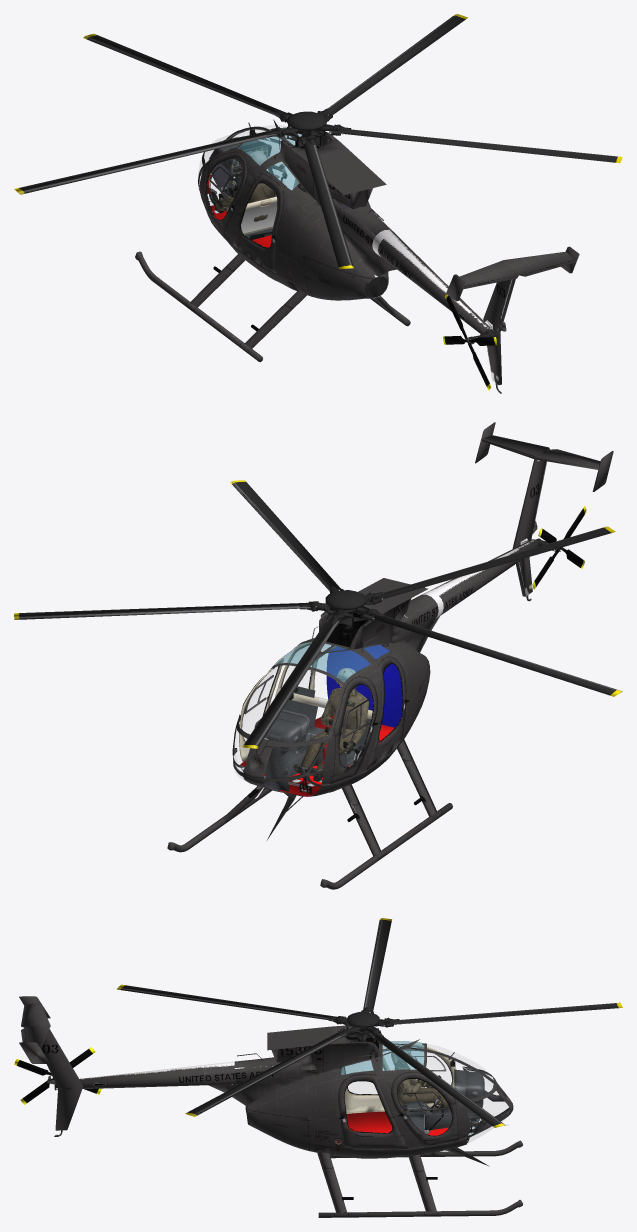
3 renders of one model, top to bottom at view 1: azimuth 30°, elevation 25°; view 2: azimuth 150°, elevation 25°; view 3: azimuth 270°, elevation 25°, orthographic. The views are drawn at different scales.
Parts seen in each view (by area): view 1: ext_fuse1.001, rotor_main, ext_fuse1, ext_fuse1_doors, ext_skids, glasss_grn, int_seats2, int_pilotR, int_console, rotor_tail, int_fuse2; view 2: rotor_main, ext_fuse1.001, ext_fuse1, ext_fuse1_doors, ext_skids, ext_fuse1.004, int_pilotR, int_console, glasss_grn, int_seats2, glass, ext_fuse1.002 (+3 smaller); view 3: ext_fuse1.001, rotor_main, ext_fuse1, ext_fuse1_doors, ext_skids, glass, int_console, ext_fuse1.002, glasss_grn, int_pilotR, ext_fuse1.003, rotor_tail (+2 smaller).
Part boxes in pixels (x1=…): ext_fuse1.001: x1=288, y1=149, x2=579, y2=393; rotor_main: x1=14, y1=14, x2=622, y2=269; ext_fuse1: x1=198, y1=119, x2=347, y2=282; ext_fuse1_doors: x1=204, y1=152, x2=299, y2=273; ext_skids: x1=135, y1=251, x2=410, y2=362; glasss_grn: x1=238, y1=128, x2=301, y2=190; int_seats2: x1=233, y1=195, x2=277, y2=239; int_pilotR: x1=209, y1=150, x2=277, y2=221; int_console: x1=206, y1=139, x2=271, y2=194; rotor_tail: x1=443, y1=294, x2=497, y2=390; int_fuse2: x1=198, y1=128, x2=285, y2=197; rotor_main: x1=14, y1=480, x2=622, y2=748; ext_fuse1.001: x1=358, y1=422, x2=613, y2=732; ext_fuse1: x1=233, y1=604, x2=412, y2=798; ext_fuse1_doors: x1=239, y1=642, x2=409, y2=783; ext_skids: x1=167, y1=739, x2=452, y2=889; ext_fuse1.004: x1=326, y1=645, x2=402, y2=727; int_pilotR: x1=293, y1=668, x2=369, y2=781; int_console: x1=254, y1=709, x2=326, y2=791; glasss_grn: x1=274, y1=638, x2=389, y2=682; int_seats2: x1=275, y1=686, x2=372, y2=767; glass: x1=234, y1=666, x2=310, y2=781; ext_fuse1.002: x1=267, y1=735, x2=406, y2=840; ext_fuse1.001: x1=19, y1=996, x2=331, y2=1152; rotor_main: x1=117, y1=918, x2=622, y2=1127; ext_fuse1: x1=324, y1=1025, x2=513, y2=1149; ext_fuse1_doors: x1=338, y1=1043, x2=458, y2=1149; ext_skids: x1=317, y1=1140, x2=522, y2=1217; glass: x1=348, y1=1044, x2=508, y2=1143; int_console: x1=424, y1=1069, x2=484, y2=1132; ext_fuse1.002: x1=325, y1=1137, x2=489, y2=1166; glasss_grn: x1=341, y1=1041, x2=424, y2=1074; int_pilotR: x1=394, y1=1043, x2=449, y2=1108; ext_fuse1.003: x1=346, y1=1108, x2=448, y2=1135; rotor_tail: x1=14, y1=1047, x2=101, y2=1104.
Bounding box in the file's own units: 7.48 × 2.89 × 9.2.
13 materials, 11 textured.
